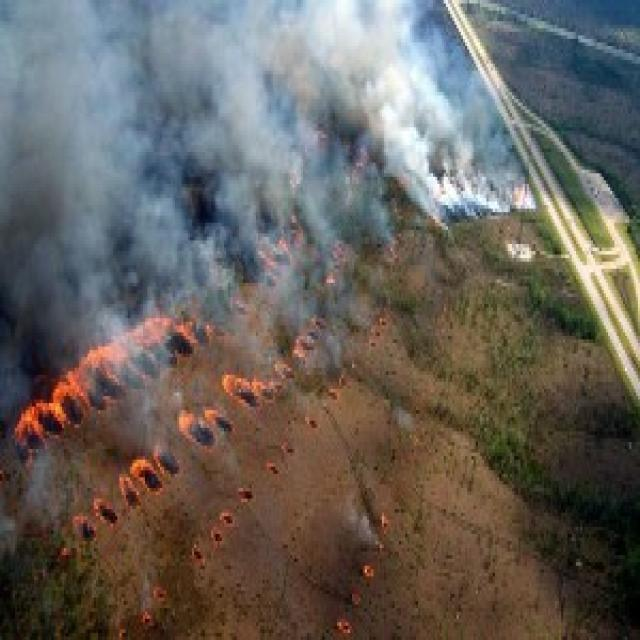Fire: (332, 501, 398, 608), (205, 335, 280, 421), (55, 340, 127, 418), (120, 408, 172, 505), (126, 300, 196, 370), (0, 385, 73, 442)
Smoke: (0, 0, 414, 191)
